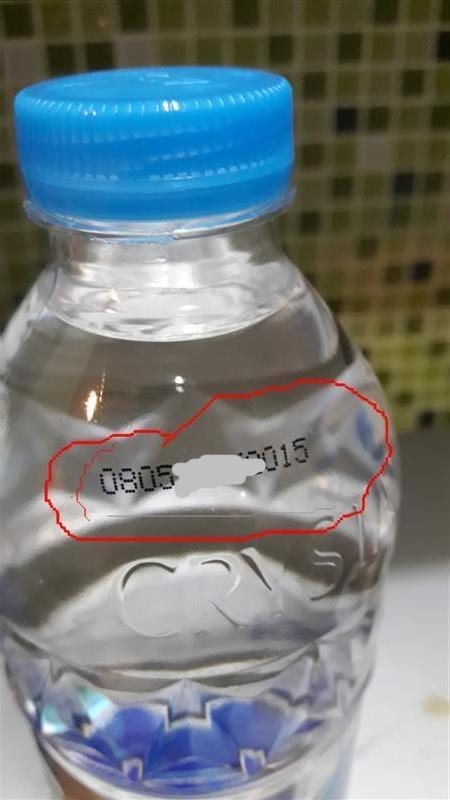bottle: (0, 29, 419, 800)
